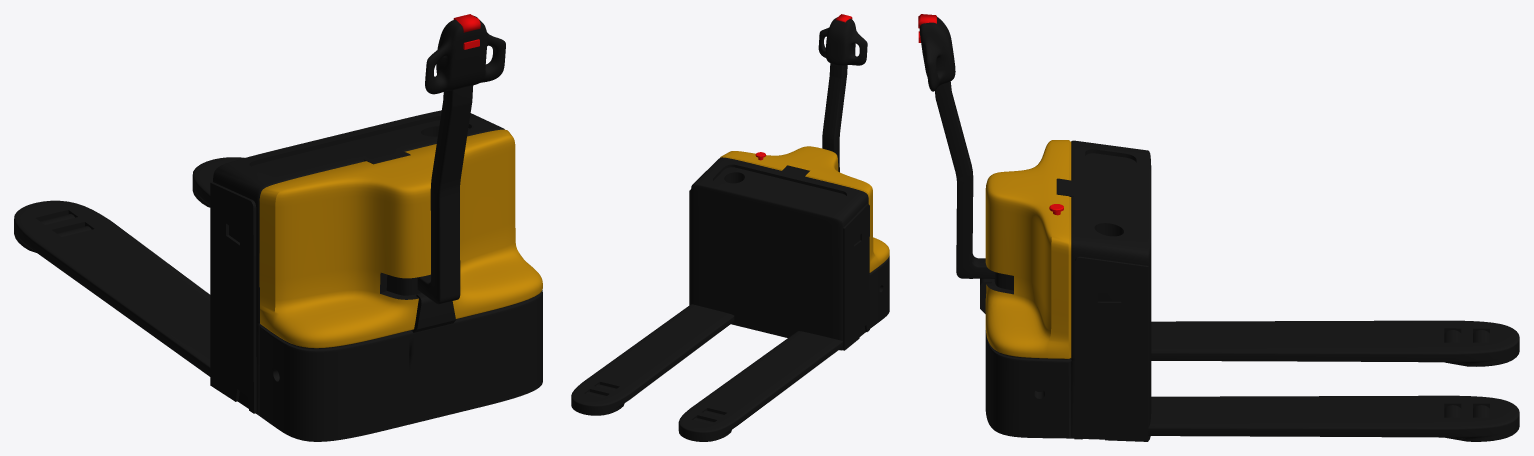
File: PALLET_JACK.glb
3 renders of one model, left to right at view 1: azimuth 30°, elevation 25°; view 2: azimuth 150°, elevation 25°; view 3: azimuth 270°, elevation 25°, orthographic. The views are drawn at different scales.
Visible parts, largest first — view 1: PalletJack; view 2: PalletJack; view 3: PalletJack.
Boxes of the visible parts, box(x1,y1,x2,y2) form: PalletJack: box(14, 14, 542, 441); PalletJack: box(571, 14, 889, 441); PalletJack: box(918, 14, 1519, 441).
Bounding box in the file's own units: 0.9375 × 1.52 × 2.19.
